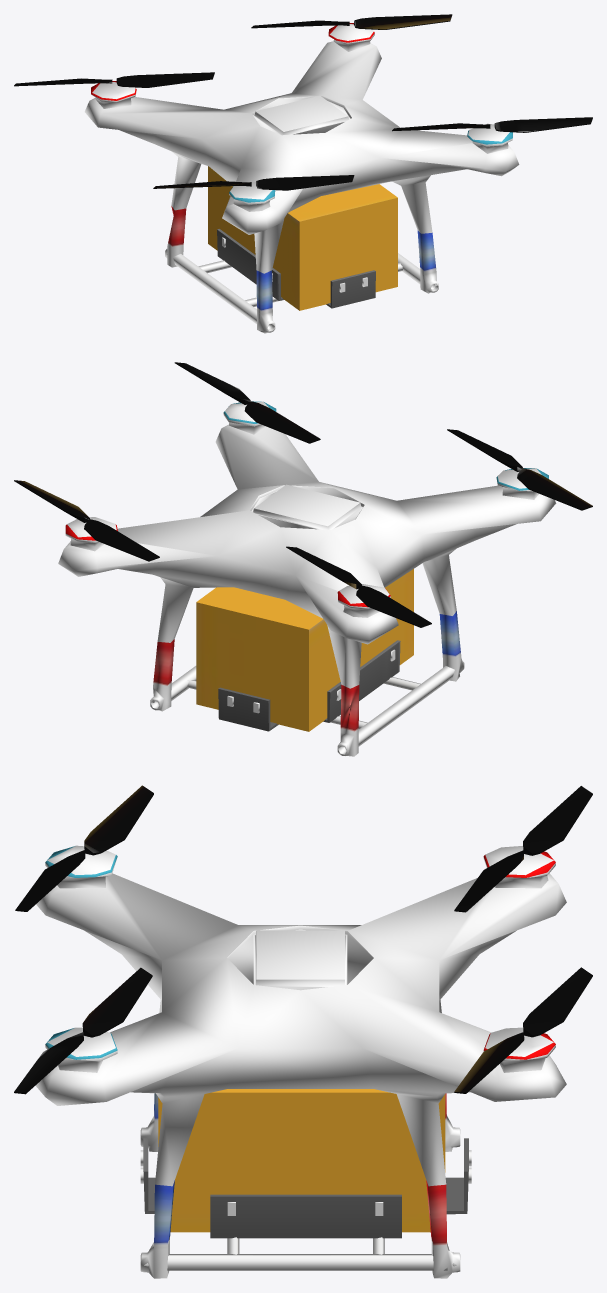
File: drone.lod1.glb
3 views of the same model, one above another, from view 1: azimuth 30°, elevation 25°; view 2: azimuth 150°, elevation 25°; view 3: azimuth 270°, elevation 25° (orthographic). The views are drawn at different scales.
Visible parts, largest first — view 1: drone; view 2: drone; view 3: drone.
Part boxes in pixels (left/top/right/bottom): drone: left=14, top=14, right=592, bottom=333; drone: left=14, top=362, right=592, bottom=756; drone: left=14, top=785, right=592, bottom=1278.
Size of the model in its own units: 6 by 2.49 by 4.77.
Materials: 1 (1 with a texture image).
